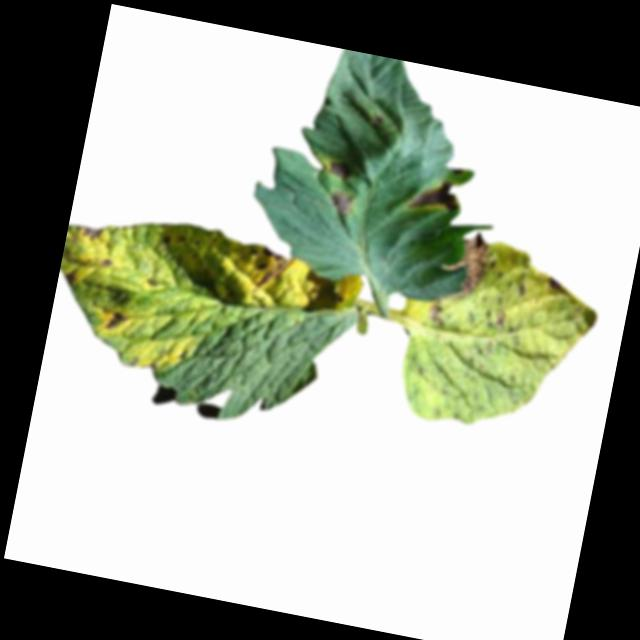Early_blight: (426, 226, 494, 335), (406, 173, 464, 218), (240, 244, 289, 294), (325, 190, 355, 220), (101, 307, 131, 336), (325, 159, 351, 183), (542, 273, 568, 296), (81, 223, 102, 243), (491, 306, 506, 329)
